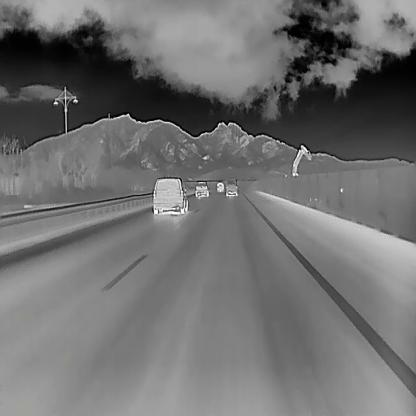car: (152, 176, 189, 214), (194, 180, 210, 198), (225, 178, 237, 196)
truck: (215, 180, 224, 192)
